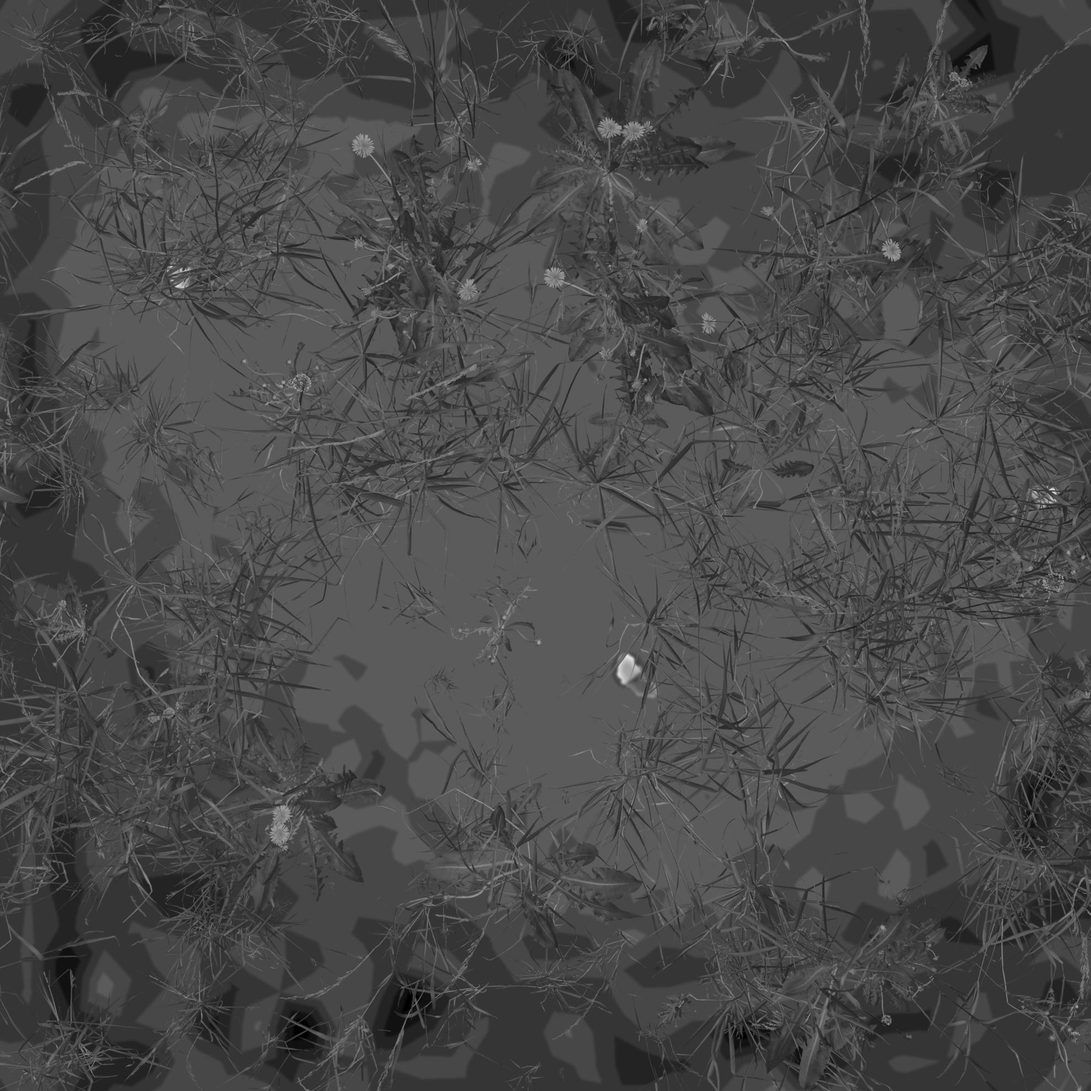landmine: (613, 651, 662, 704)
